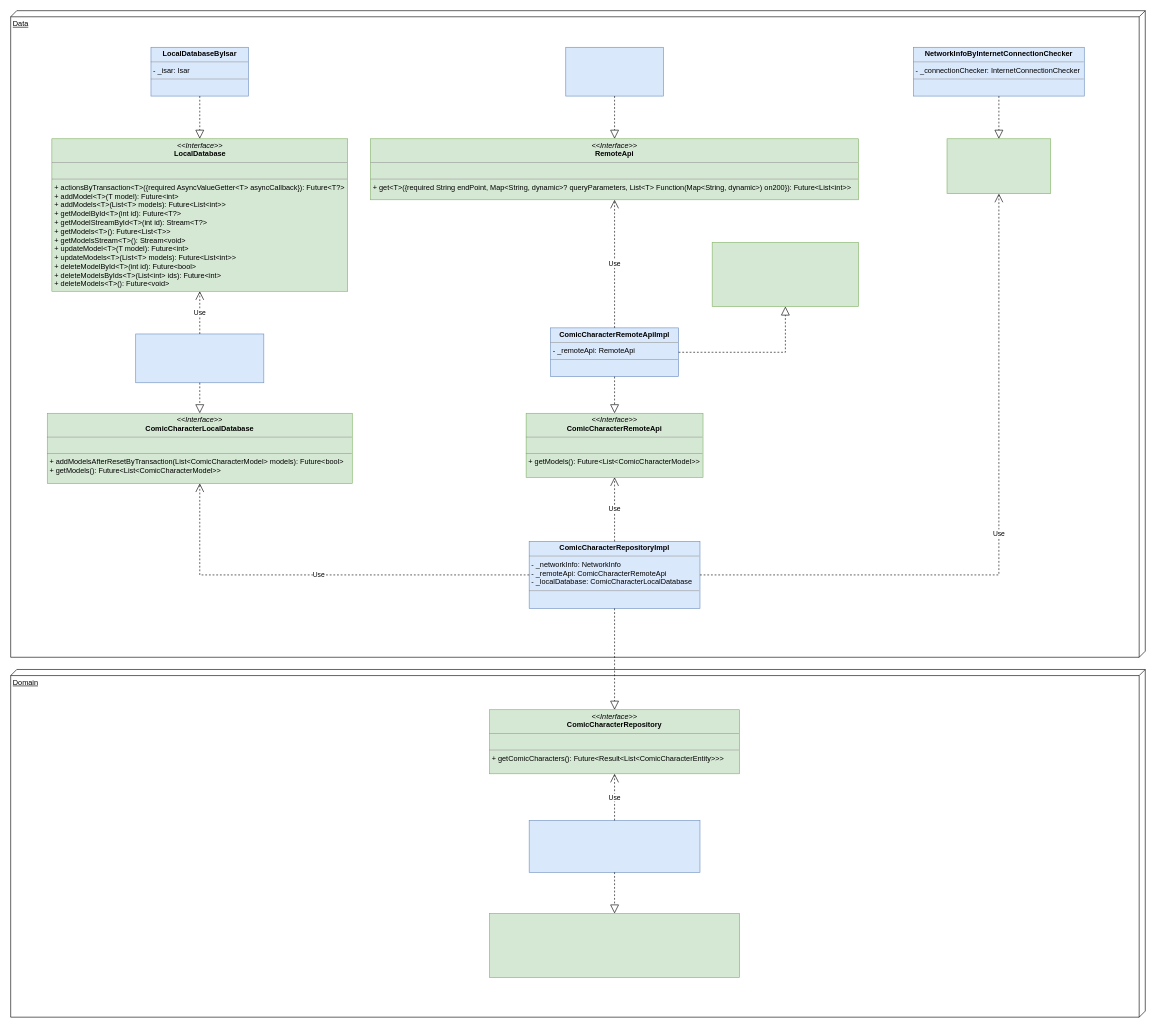
Some shapes in this 1156 by 1028 pixel diagram are drawn without their labels. The shapes that lost their labels are listed below. From the top down, each one's centre as x and y in pixels, then its label:
At pixel 614 71: "RemoteApiByDio - _dio: Dio".
At pixel 998 166: "<<Interface>> NetworkInfo + isConnected: Future<bool>".
At pixel 785 274: "<<Interface>> JsonConverter<T> + fromJson(Map<String, dynamic> json): T".
At pixel 199 358: "ComicCharacterLocalDatabaseImpl - _localDatabase: LocalDatabase".
At pixel 614 846: "GetComicCharacters - _repository: ComicCharacterRepository".
At pixel 614 945: "<<Interface>> UseCase<T> + call(): Future<Result<T>>".
